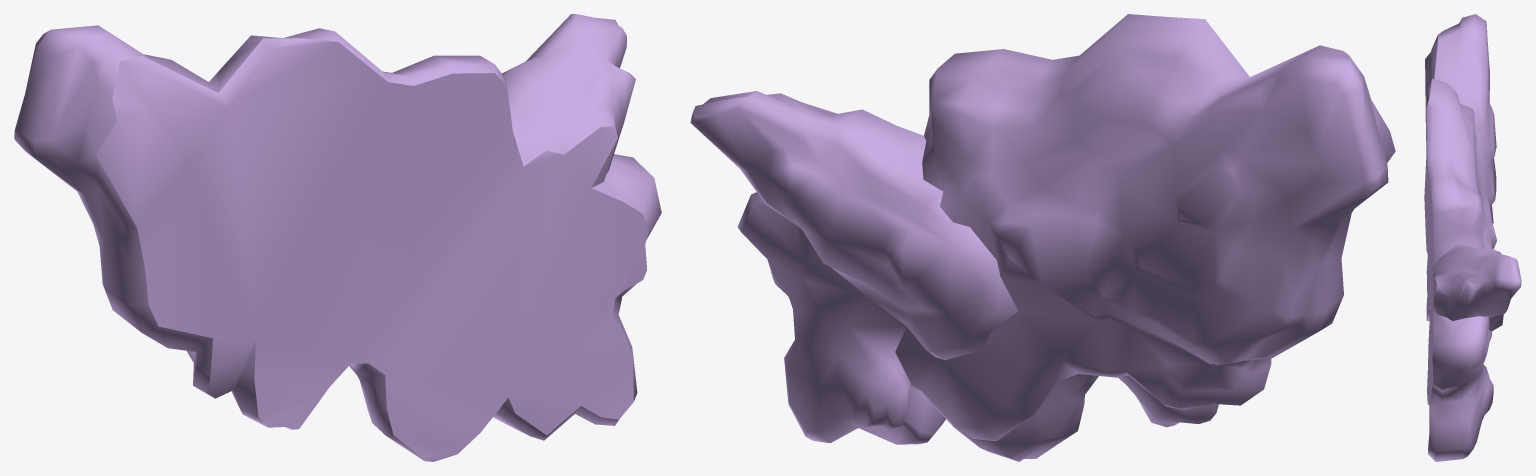
File: Rock_002.FBX
The picture shows the model from 3 angles, left to right: view 1: azimuth 30°, elevation 25°; view 2: azimuth 150°, elevation 25°; view 3: azimuth 270°, elevation 25°; orthographic projection. The views are drawn at different scales.
Visible parts, largest first — view 1: Rock_002_LOD0; view 2: Rock_002_LOD0; view 3: Rock_002_LOD0.
Boxes of the visible parts, <box> form: Rock_002_LOD0: <box>14,14,661,461</box>; Rock_002_LOD0: <box>690,14,1395,461</box>; Rock_002_LOD0: <box>1424,14,1521,461</box>.
Size of the model in its own units: 432 by 97.28 by 326.
